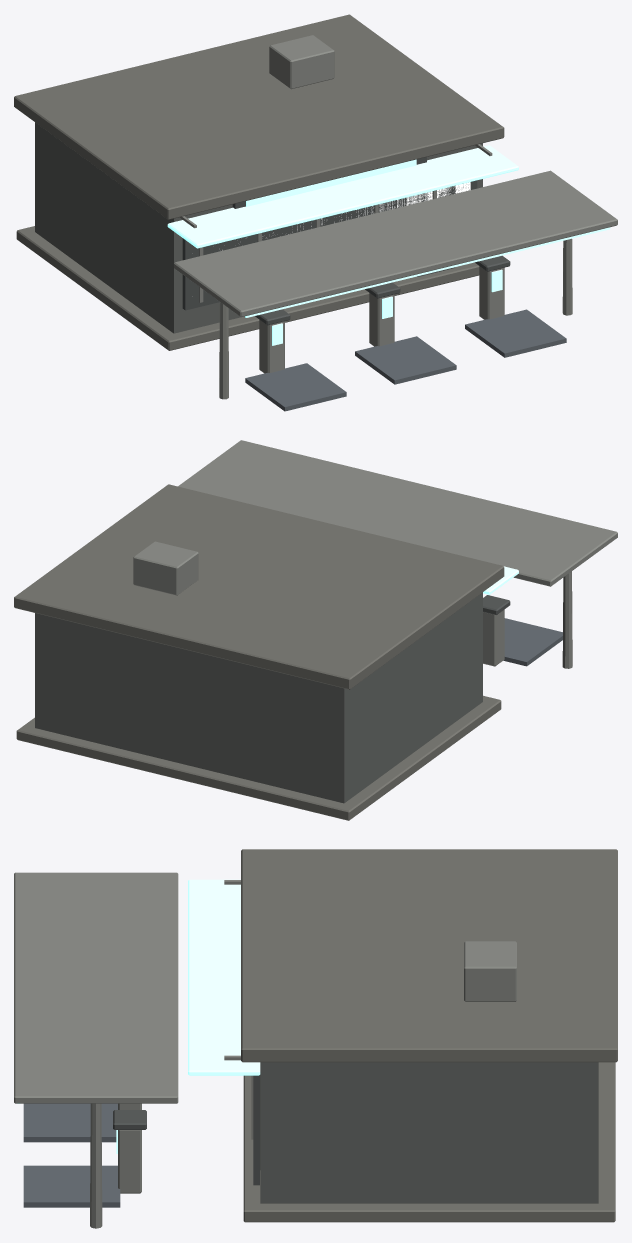
The model's file is shop_charging.glb.
3 views of the same model, one above another, from view 1: azimuth 30°, elevation 25°; view 2: azimuth 150°, elevation 25°; view 3: azimuth 270°, elevation 25° (orthographic). The views are drawn at different scales.
Visible parts, largest first — view 1: shop_charging_Concrete@utility, shop_charging_Steel@utility, shop_charging_Graphite@utility, shop_charging_Cyan, shop_charging_Sidewalk, shop_charging_DarkAlloy@utility, shop_charging_WarmGlass; view 2: shop_charging_Concrete@utility, shop_charging_Graphite@utility, shop_charging_Steel@utility, shop_charging_Sidewalk; view 3: shop_charging_Concrete@utility, shop_charging_Graphite@utility, shop_charging_Steel@utility, shop_charging_Cyan, shop_charging_Sidewalk, shop_charging_DarkAlloy@utility.
Part boxes in pixels (x1,y1,x2,y2): shop_charging_Concrete@utility: [14, 14, 504, 350]; shop_charging_Steel@utility: [174, 35, 617, 399]; shop_charging_Graphite@utility: [35, 122, 482, 333]; shop_charging_Cyan: [167, 145, 610, 345]; shop_charging_Sidewalk: [245, 309, 566, 411]; shop_charging_DarkAlloy@utility: [182, 157, 510, 325]; shop_charging_WarmGlass: [222, 182, 470, 250]; shop_charging_Concrete@utility: [14, 484, 504, 820]; shop_charging_Graphite@utility: [35, 592, 482, 803]; shop_charging_Steel@utility: [133, 440, 617, 668]; shop_charging_Sidewalk: [503, 618, 562, 666]; shop_charging_Concrete@utility: [241, 849, 617, 1222]; shop_charging_Graphite@utility: [260, 1062, 598, 1203]; shop_charging_Steel@utility: [14, 872, 516, 1228]; shop_charging_Cyan: [17, 879, 260, 1153]; shop_charging_Sidewalk: [23, 1103, 120, 1207]; shop_charging_DarkAlloy@utility: [113, 1075, 260, 1185].
Size of the model in its own units: 11 by 4.8 by 12.5.
